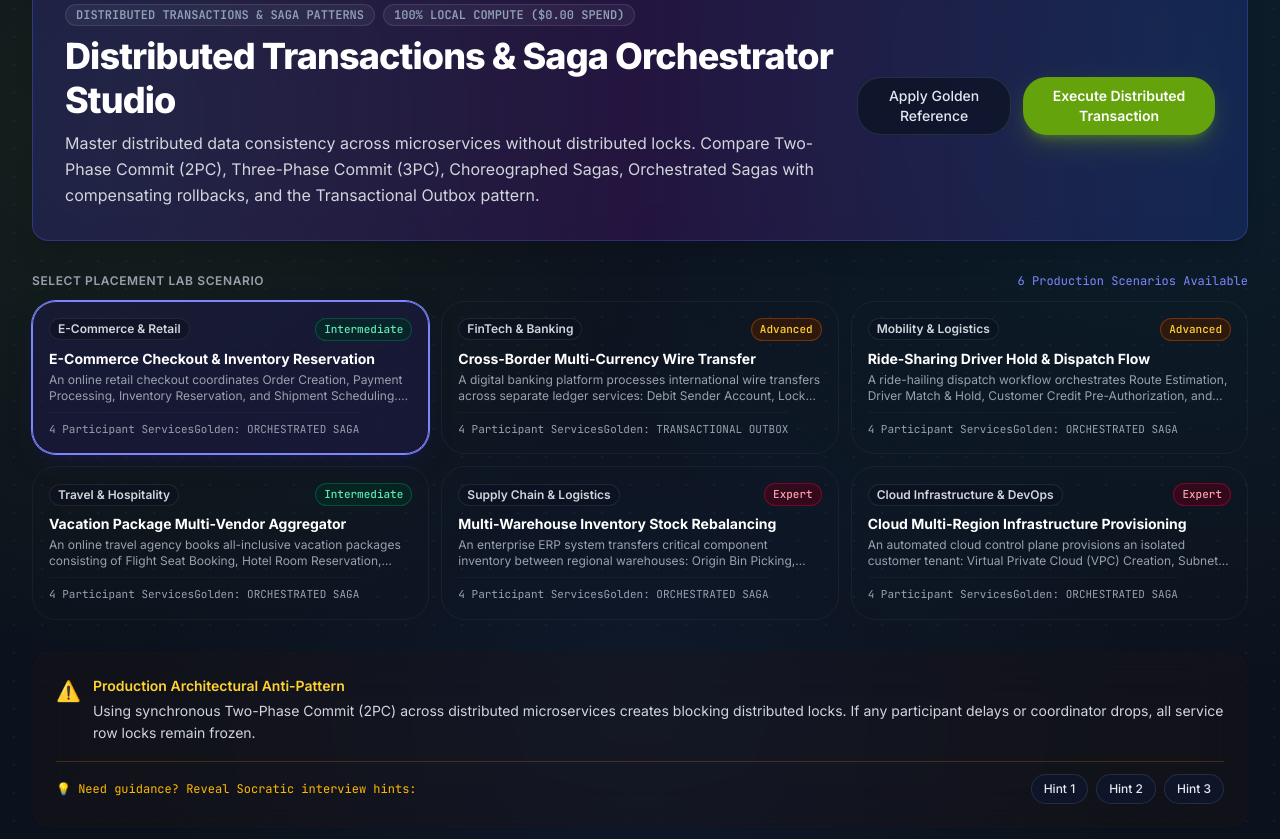
TransactionLabPage Component & Interaction Suite › reveals Socratic guidance hints when clicking Hint buttons
The width and height of the screenshot is (1280, 839).
Click the button "Hint 1". click: (1059, 789)
box: left=1031, top=774, right=1088, bottom=804
(page scrolled)
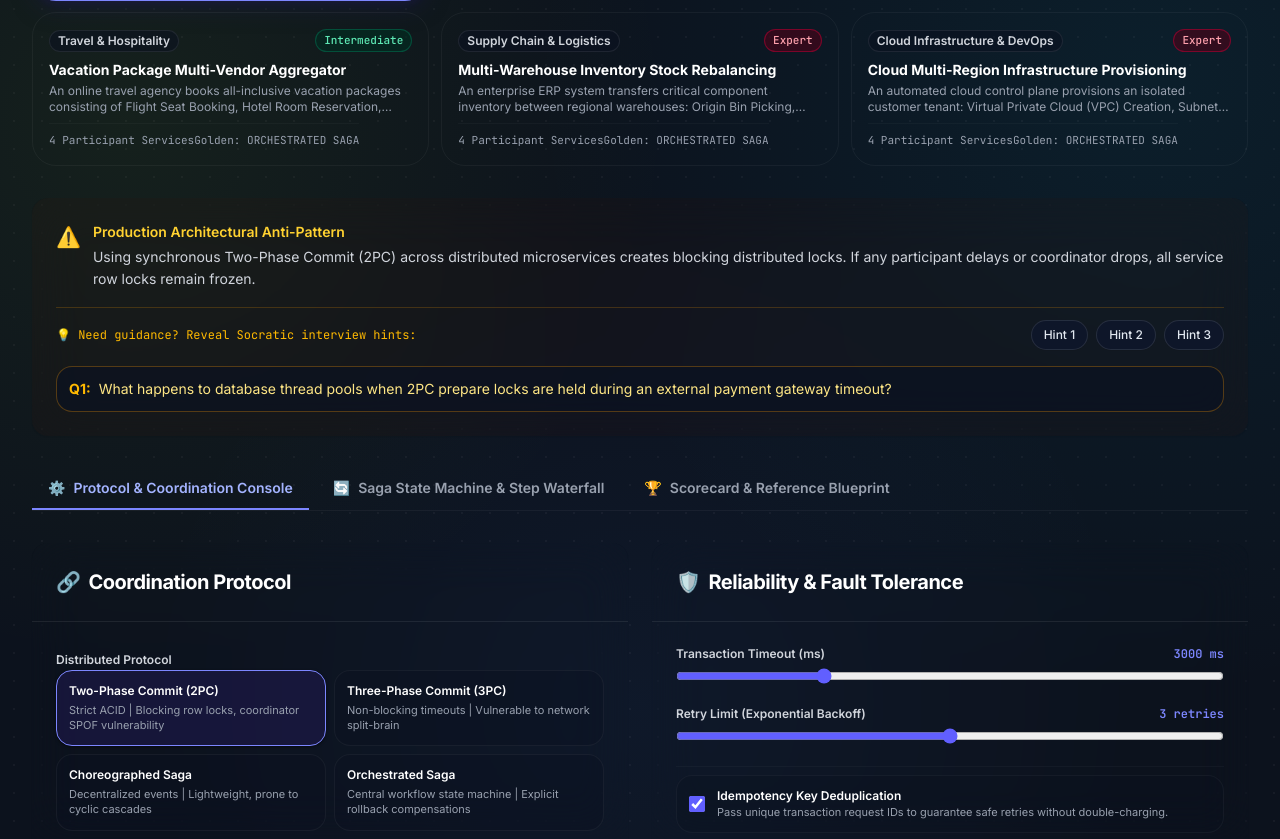
Expected: the text "Q1:" is shown, left=69, top=379, right=91, bottom=399
Expected: the text "What happens to database thread pools when 2PC prepare locks" is shown, left=99, top=380, right=892, bottom=397
